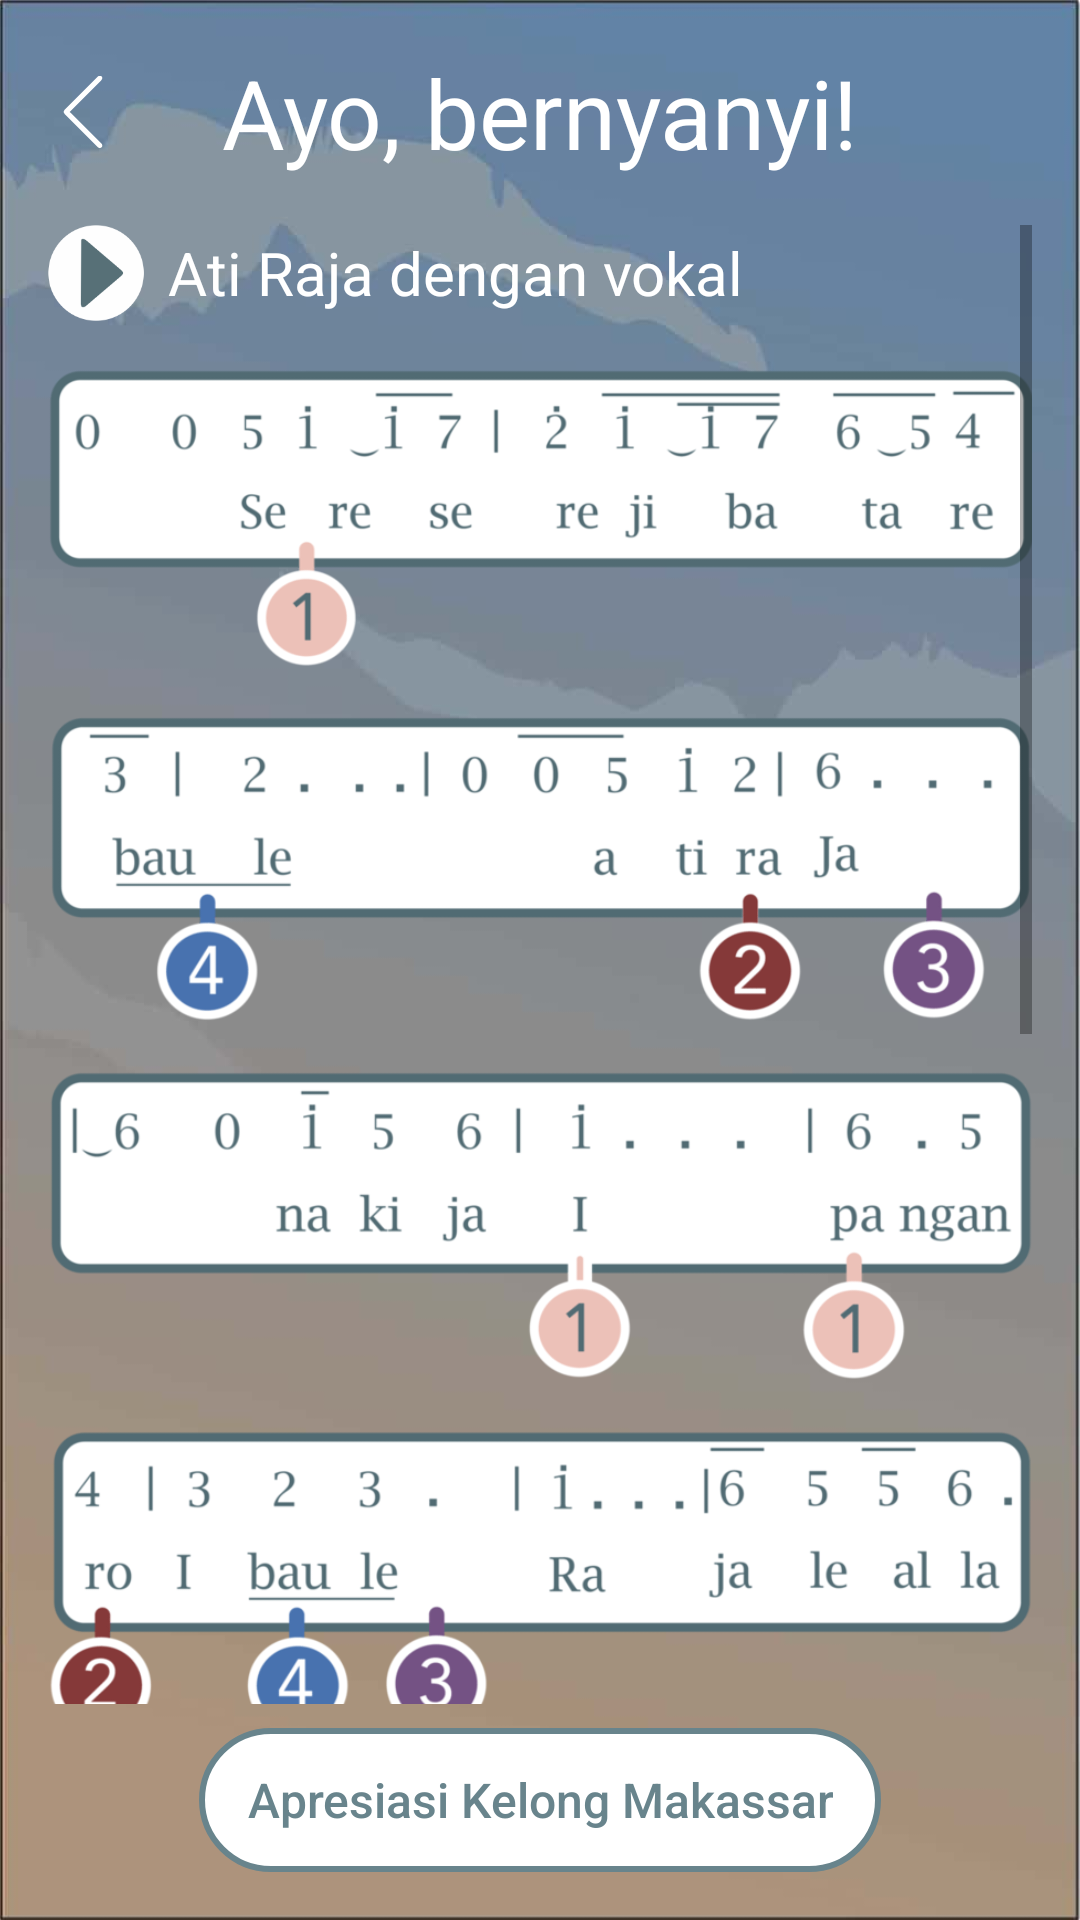

Where to tap for icons on this 1080 × 1920 app screen, as point (x, y):
back: point (83, 112)
play: point (96, 273)
